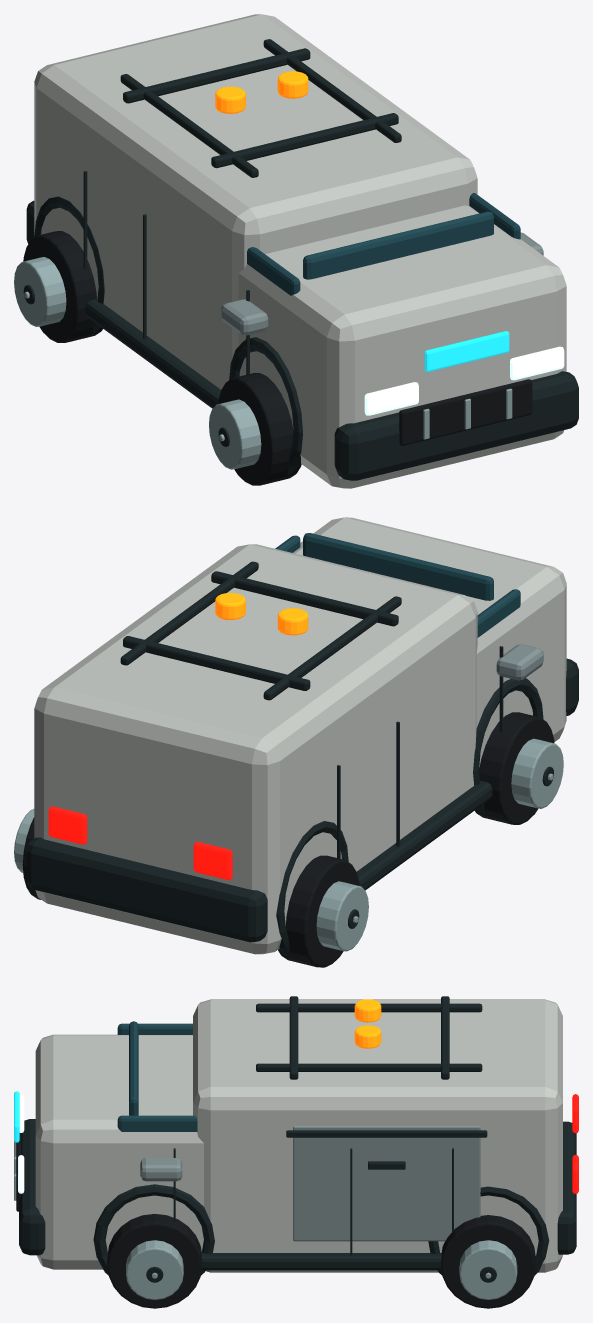
File: vanE.glb
3 views of the same model, one above another, from view 1: azimuth 30°, elevation 25°; view 2: azimuth 150°, elevation 25°; view 3: azimuth 270°, elevation 25° (orthographic). The views are drawn at different scales.
Visible parts, largest first — view 1: VanE_CabinBody, VanE_DoorSeam, VanE_Grille, VanE_SideWindow, VanE_GrilleBar, VanE_Headlight, VanE_ServiceBadge, VanE_Beacon, VanE_CargoRib; view 2: VanE_CabinBody, VanE_DoorSeam, VanE_Grille, VanE_GrilleBar, VanE_SideWindow, VanE_TailLight, VanE_Beacon, VanE_CargoRib; view 3: VanE_CabinBody, VanE_DoorSeam, VanE_CargoRib, VanE_Grille, VanE_GrilleBar, VanE_SideWindow, VanE_Beacon, VanE_TailLight, VanE_Headlight.
Boxes of the visible parts, x1=… form: VanE_CabinBody: x1=34, y1=14, x2=566, y2=488; VanE_DoorSeam: x1=23, y1=39, x2=578, y2=480; VanE_Grille: x1=23, y1=231, x2=532, y2=485; VanE_SideWindow: x1=247, y1=193, x2=520, y2=295; VanE_GrilleBar: x1=14, y1=257, x2=512, y2=469; VanE_Headlight: x1=364, y1=346, x2=564, y2=415; VanE_ServiceBadge: x1=424, y1=331, x2=509, y2=371; VanE_Beacon: x1=215, y1=71, x2=308, y2=113; VanE_CargoRib: x1=221, y1=232, x2=543, y2=335; VanE_CabinBody: x1=34, y1=517, x2=566, y2=954; VanE_DoorSeam: x1=26, y1=561, x2=578, y2=956; VanE_Grille: x1=22, y1=712, x2=554, y2=967; VanE_GrilleBar: x1=14, y1=738, x2=563, y2=951; VanE_SideWindow: x1=275, y1=533, x2=520, y2=637; VanE_TailLight: x1=48, y1=806, x2=232, y2=879; VanE_Beacon: x1=215, y1=593, x2=308, y2=635; VanE_CargoRib: x1=496, y1=644, x2=543, y2=680; VanE_CabinBody: x1=35, y1=999, x2=562, y2=1272; VanE_DoorSeam: x1=19, y1=996, x2=576, y2=1282; VanE_CargoRib: x1=140, y1=1126, x2=480, y2=1241; VanE_Grille: x1=16, y1=1133, x2=535, y2=1308; VanE_GrilleBar: x1=14, y1=1141, x2=517, y2=1299; VanE_SideWindow: x1=117, y1=1021, x2=197, y2=1131; VanE_Beacon: x1=354, y1=999, x2=381, y2=1048; VanE_TailLight: x1=572, y1=1094, x2=578, y2=1193; VanE_Headlight: x1=18, y1=1094, x2=24, y2=1193.
Size of the model in its own units: 2.97 by 2.33 by 5.12.
